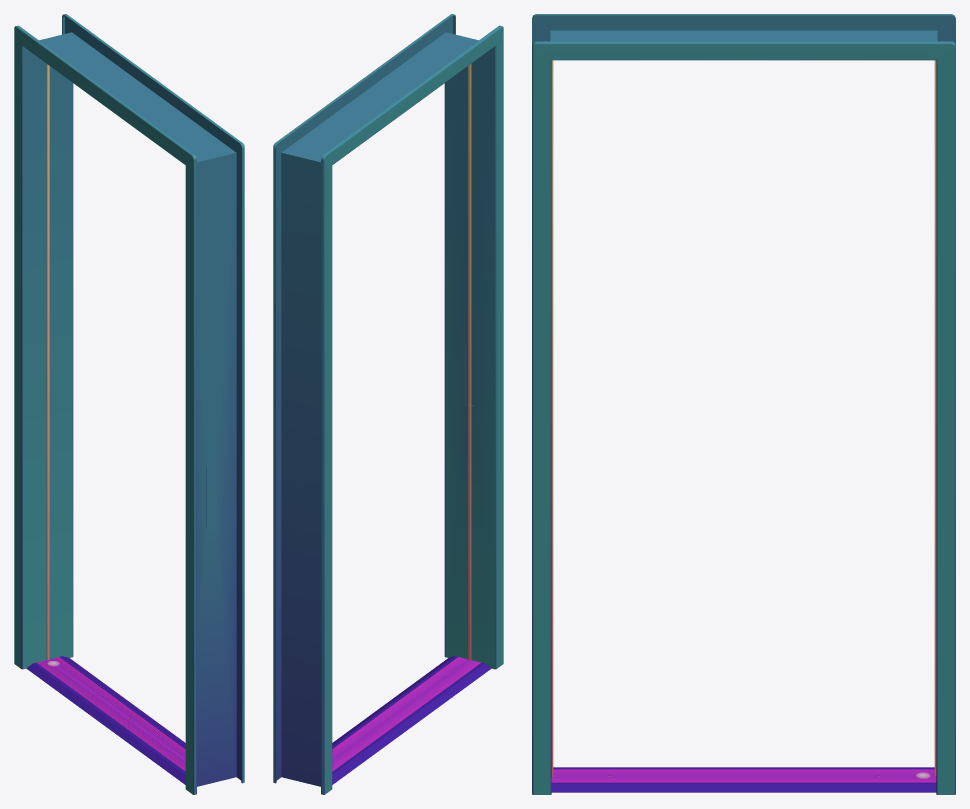
The model's file is Kit_DoorFrame_FRP_DA.fbx.
The picture shows the model from 3 angles, left to right: view 1: azimuth 30°, elevation 25°; view 2: azimuth 150°, elevation 25°; view 3: azimuth 270°, elevation 25°; orthographic projection. The views are drawn at different scales.
Parts seen in each view (by area): view 1: Kit_DoorFrame_FRP_DA_LOD0; view 2: Kit_DoorFrame_FRP_DA_LOD0; view 3: Kit_DoorFrame_FRP_DA_LOD0.
Boxes of the visible parts, left/top/right/bottom form: Kit_DoorFrame_FRP_DA_LOD0: left=14, top=14, right=244, bottom=794; Kit_DoorFrame_FRP_DA_LOD0: left=273, top=14, right=503, bottom=794; Kit_DoorFrame_FRP_DA_LOD0: left=532, top=14, right=955, bottom=794.
Size of what is drawn, in the model's own units: 0.1822 by 2.15 by 1.1.
